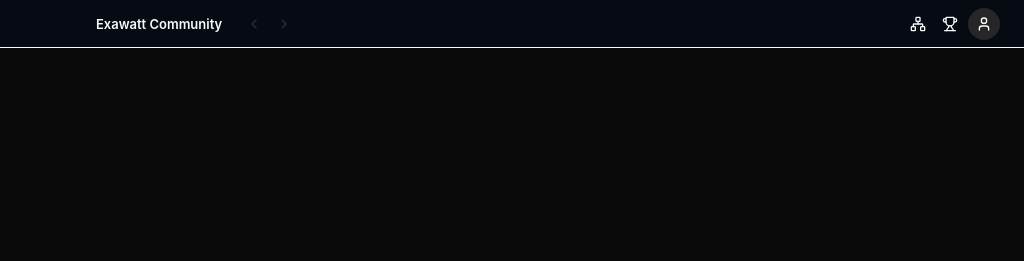
it: SiteHeaderNav account menu › offers Sign out, and only Sign out, once signed in
Press the mouse on the button named "Account and Workspace menu": x=984, y=24 [968,8,1000,40]
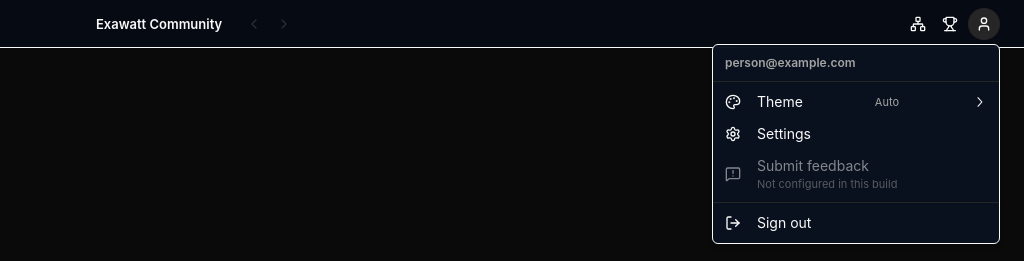
Result: the menu item "Sign out" is shown at [725,214,811,231]
